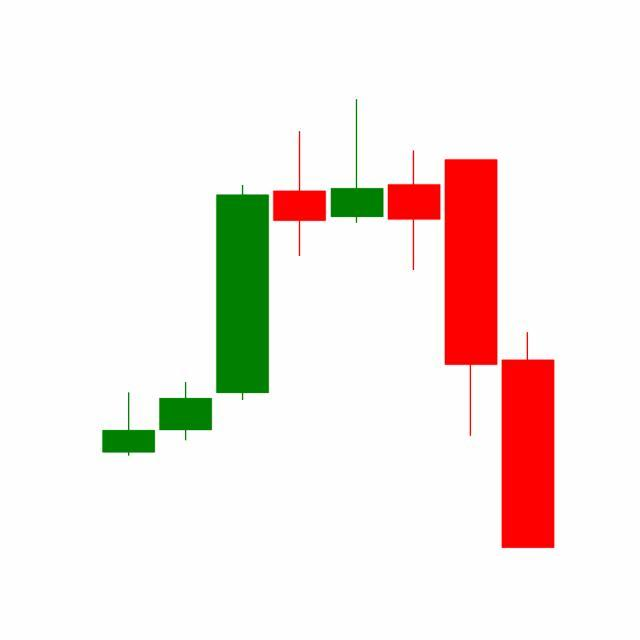Three Outside Up-Down: (328, 99, 500, 441)
